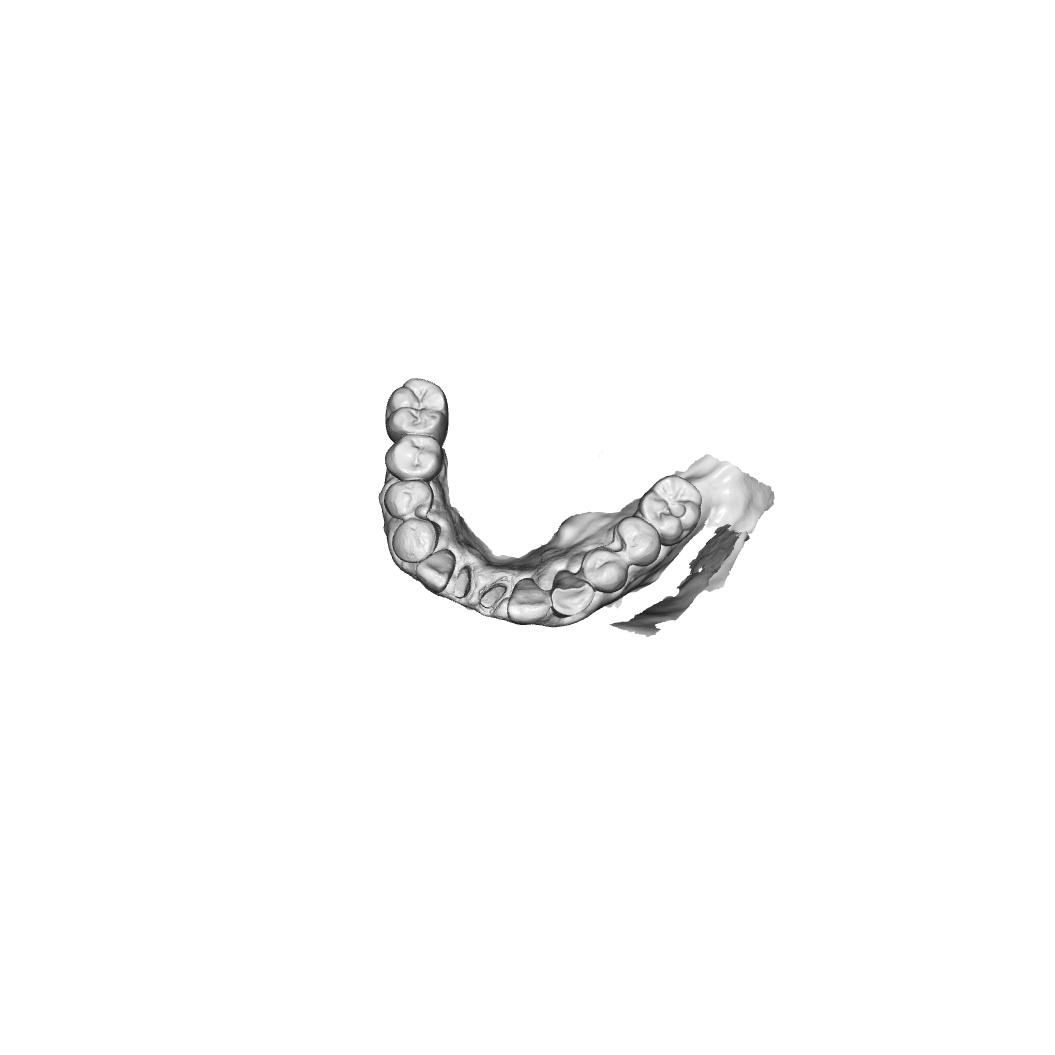canine: (392, 517, 441, 563), (551, 569, 596, 619)
crown: (479, 581, 508, 609), (453, 564, 472, 600)
incisor: (506, 577, 553, 626), (415, 548, 457, 594)
molar: (637, 474, 703, 547), (385, 377, 450, 448)
premolar: (384, 433, 443, 482), (612, 515, 662, 568), (580, 546, 629, 594), (383, 480, 434, 521)
